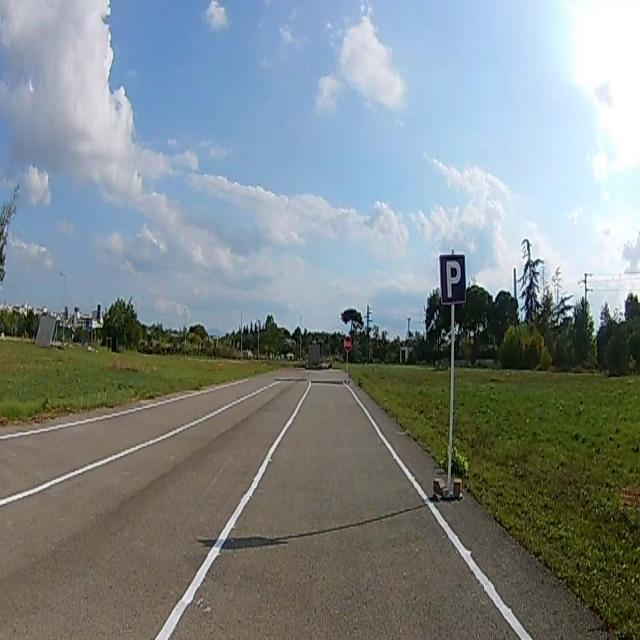park: (440, 256, 464, 300)
